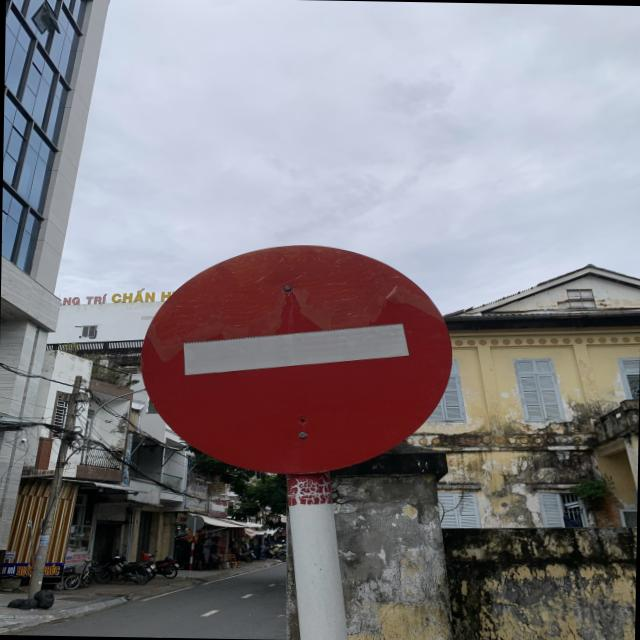Cam_Di_Nguoc_Chieu: (137, 240, 457, 477)
